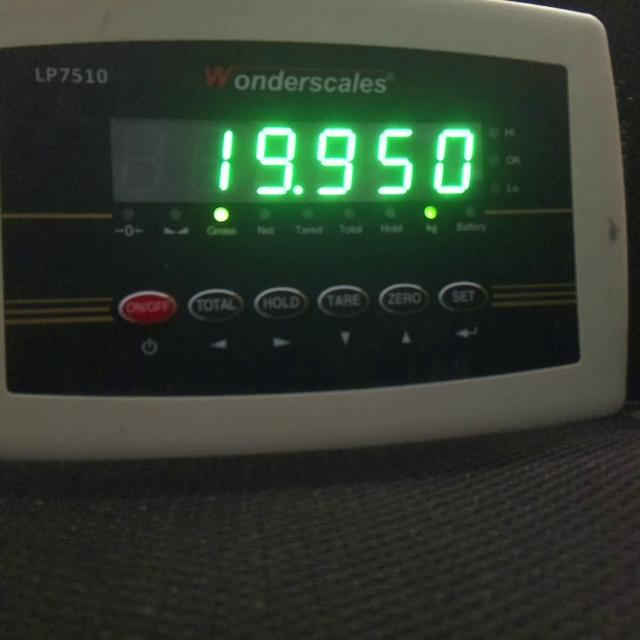.: (290, 183, 304, 196)
0: (434, 128, 475, 194)
1: (218, 129, 234, 191)
5: (375, 127, 415, 195)
9: (253, 124, 295, 198), (315, 126, 356, 195)
